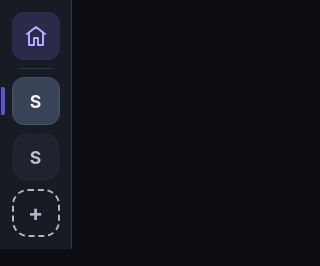
ServerRail › exposes the canonical Leave shortcut only on a non-owned server
The image size is (320, 266).
Right-click the button named "Server Two".
right_click(36, 157)  # box [12,133,60,181]
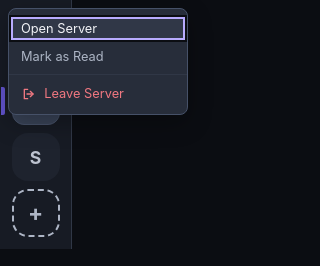
Expected: the menu item "Leave Server" is shown, [9,79,187,108]
